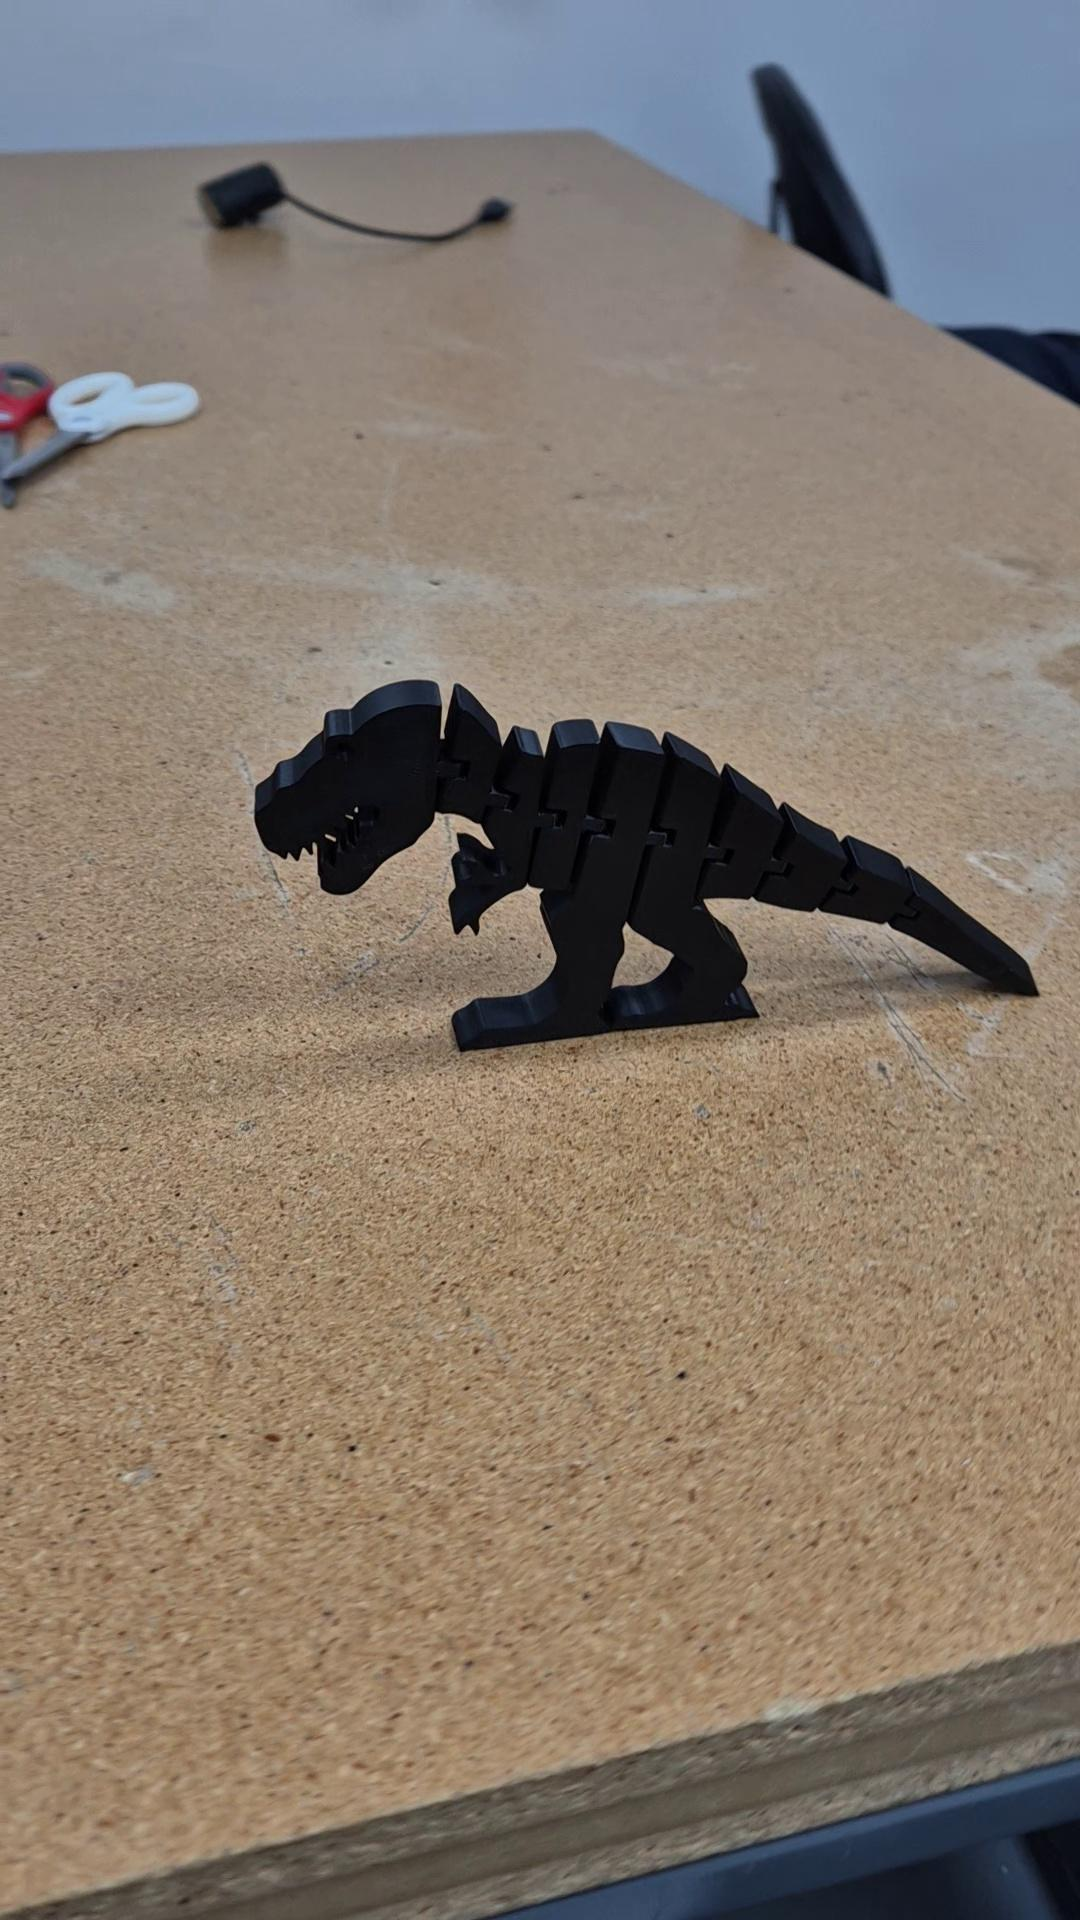dinosaur: (251, 675, 1044, 1055)
